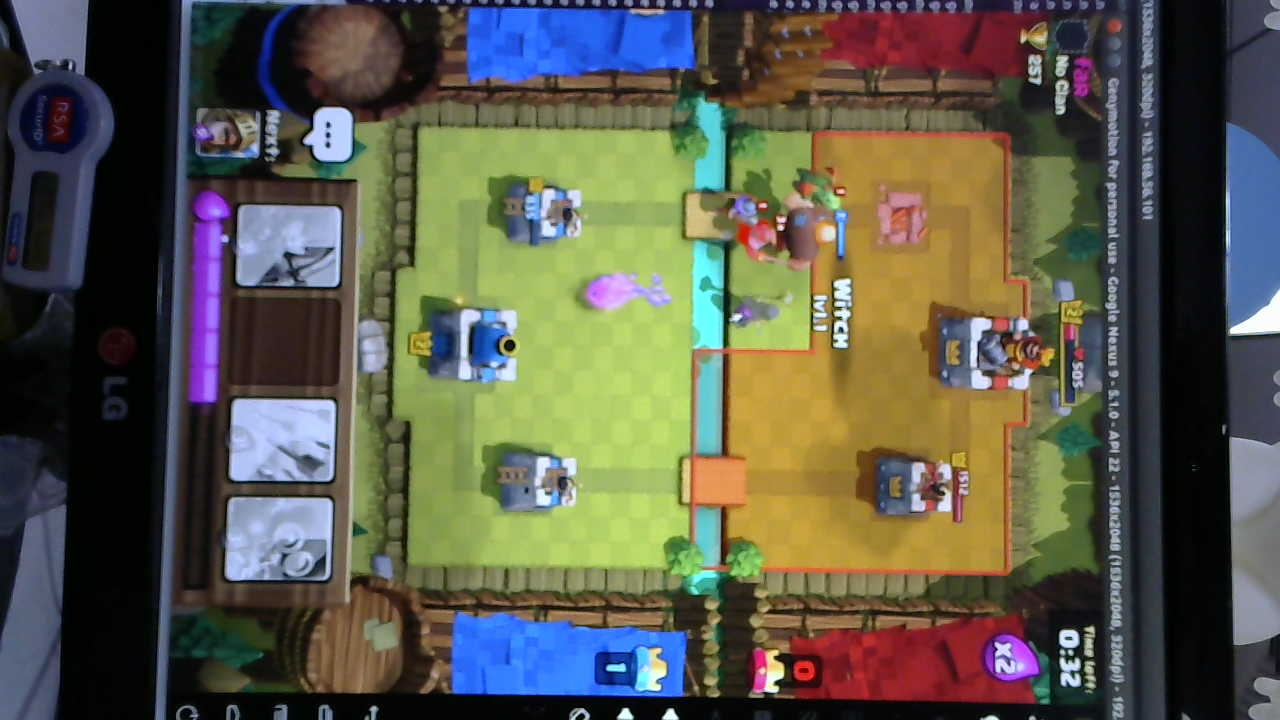arena: (495, 448, 582, 519), (504, 182, 590, 248)
dragon: (796, 166, 850, 212)
earena: (871, 453, 952, 520)
eking: (935, 311, 1048, 390)
giant: (782, 189, 838, 273)
king: (430, 304, 521, 383)
knight: (738, 219, 783, 262)
musketeer: (722, 196, 762, 226)
